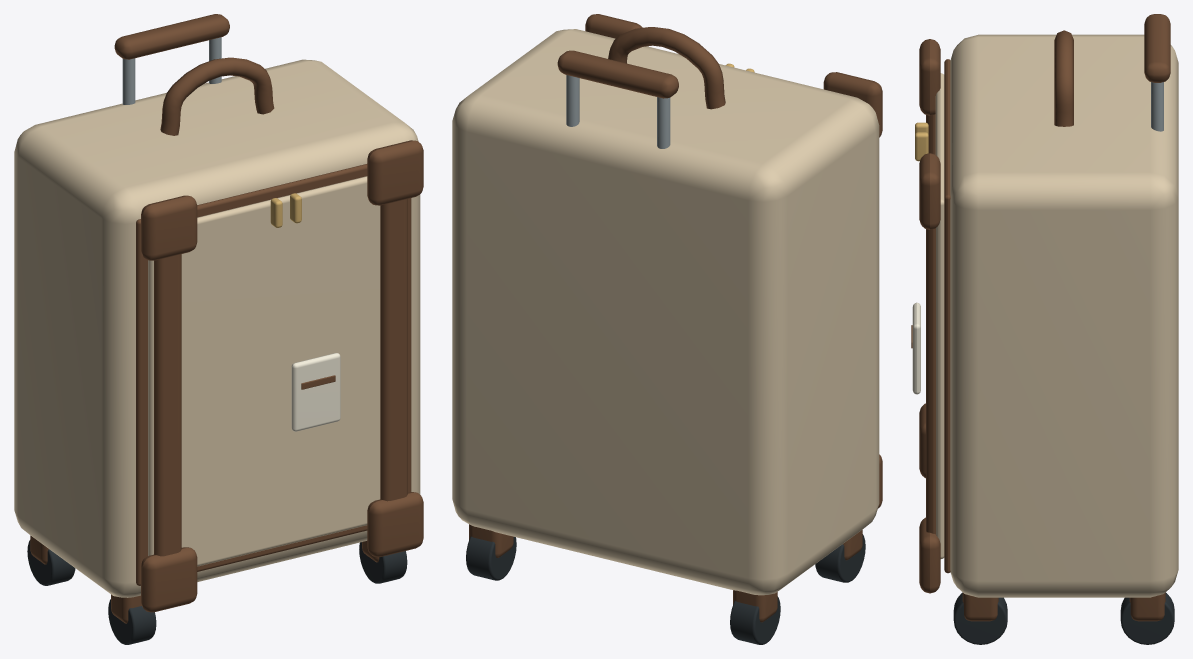
The model's file is HotelTogether-CreamSuitcase.glb.
The picture shows the model from 3 angles, left to right: view 1: azimuth 30°, elevation 25°; view 2: azimuth 150°, elevation 25°; view 3: azimuth 270°, elevation 25°; orthographic projection. The views are drawn at different scales.
Visible parts, largest first — view 1: Case_RoundedShell, Case_FrontPanel, Case_OpeningSeam, Case_BrownTrim, Case_BrownTrim.001, Case_CarryHandle, Case_NameTag, Case_Corner.001, Case_Corner.003, Case_Corner, Case_Corner.002, Case_PullHandle (+4 smaller); view 2: Case_RoundedShell, Case_CarryHandle, Case_PullHandle, Case_Wheel.001, Case_Wheel.003, Case_Corner.001, Case_Wheel, Case_Corner.003, Case_WheelMount.001, Case_PullRail, Case_PullRail.001, Case_WheelMount.003; view 3: Case_RoundedShell, Case_FrontPanel, Case_OpeningSeam, Case_BrownTrim.001, Case_CarryHandle, Case_PullHandle, Case_Corner.003, Case_Wheel.003, Case_Wheel.002, Case_Corner.001, Case_Corner.002, Case_WheelMount.003 (+4 smaller).
Part boxes in pixels (left/top/right/bottom): Case_RoundedShell: left=14, top=59, right=420, bottom=597; Case_FrontPanel: left=148, top=176, right=380, bottom=566; Case_OpeningSeam: left=136, top=164, right=411, bottom=585; Case_BrownTrim: left=154, top=254, right=181, bottom=556; Case_BrownTrim.001: left=380, top=199, right=407, bottom=501; Case_CarryHandle: left=160, top=57, right=274, bottom=135; Case_NameTag: left=291, top=353, right=340, bottom=431; Case_Corner.001: left=141, top=195, right=197, bottom=260; Case_Corner.003: left=367, top=140, right=423, bottom=205; Case_Corner: left=141, top=547, right=197, bottom=612; Case_Corner.002: left=367, top=492, right=423, bottom=556; Case_PullHandle: left=114, top=14, right=229, bottom=59; Case_RoundedShell: left=452, top=29, right=879, bottom=595; Case_CarryHandle: left=608, top=27, right=725, bottom=109; Case_PullHandle: left=557, top=50, right=678, bottom=98; Case_Wheel.001: left=730, top=596, right=780, bottom=644; Case_Wheel.003: left=466, top=536, right=516, bottom=580; Case_Corner.001: left=823, top=72, right=882, bottom=137; Case_Wheel: left=815, top=534, right=865, bottom=582; Case_Corner.003: left=585, top=14, right=642, bottom=38; Case_WheelMount.001: left=733, top=590, right=777, bottom=622; Case_PullRail: left=657, top=97, right=670, bottom=148; Case_PullRail.001: left=566, top=75, right=579, bottom=126; Case_WheelMount.003: left=469, top=524, right=513, bottom=557; Case_RoundedShell: left=950, top=34, right=1178, bottom=597; Case_FrontPanel: left=935, top=73, right=944, bottom=558; Case_OpeningSeam: left=944, top=59, right=950, bottom=573; Case_BrownTrim.001: left=926, top=228, right=935, bottom=534; Case_CarryHandle: left=1054, top=30, right=1073, bottom=126; Case_PullHandle: left=1144, top=14, right=1170, bottom=82; Case_Corner.003: left=919, top=153, right=940, bottom=229; Case_Wheel.003: left=1120, top=592, right=1174, bottom=644; Case_Wheel.002: left=953, top=592, right=1007, bottom=644; Case_Corner.001: left=919, top=39, right=940, bottom=115; Case_Corner.002: left=919, top=517, right=940, bottom=593; Case_WheelMount.003: left=1129, top=593, right=1165, bottom=621.
Bounding box in the file's own units: 0.46 × 0.7265 × 0.327.
